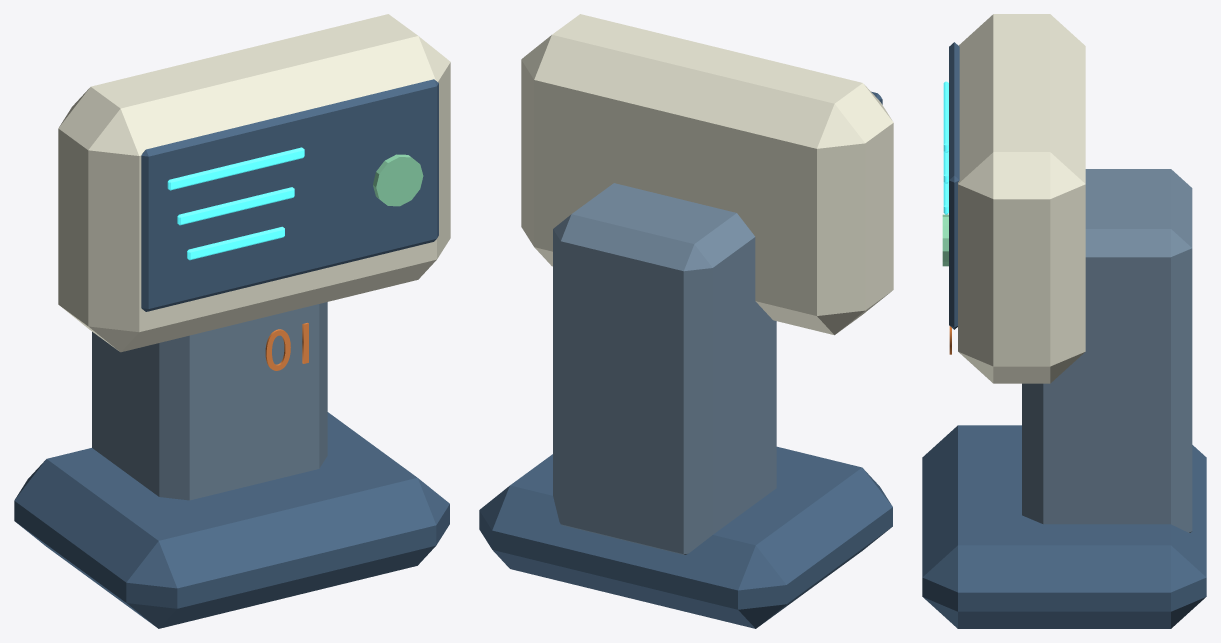
File: hangar_terminal.glb
The picture shows the model from 3 angles, left to right: view 1: azimuth 30°, elevation 25°; view 2: azimuth 150°, elevation 25°; view 3: azimuth 270°, elevation 25°; orthographic projection. The views are drawn at different scales.
Parts seen in each view (by area): view 1: Monitor, Terminal base, Screen, Terminal trunk, Status, Screen route, Screen route.001, Screen route.002, Bay number; view 2: Monitor, Terminal trunk, Terminal base; view 3: Terminal trunk, Monitor, Terminal base, Screen, Screen route.
Part boxes in pixels (x1,y1,x2,y2): Monitor: [58, 14, 450, 352]; Terminal base: [14, 412, 449, 628]; Screen: [141, 79, 438, 311]; Terminal trunk: [92, 302, 327, 500]; Status: [373, 154, 423, 206]; Screen route: [167, 147, 304, 190]; Screen route.001: [177, 187, 294, 225]; Screen route.002: [187, 226, 284, 260]; Bay number: [265, 322, 308, 370]; Monitor: [521, 14, 893, 335]; Terminal trunk: [553, 183, 776, 554]; Terminal base: [479, 446, 892, 628]; Terminal trunk: [1022, 169, 1192, 532]; Monitor: [958, 14, 1085, 383]; Terminal base: [922, 425, 1206, 628]; Screen: [949, 42, 959, 329]; Screen route: [943, 81, 948, 152].
Size of the model in its own units: 1.12 by 1.51 by 0.8.
